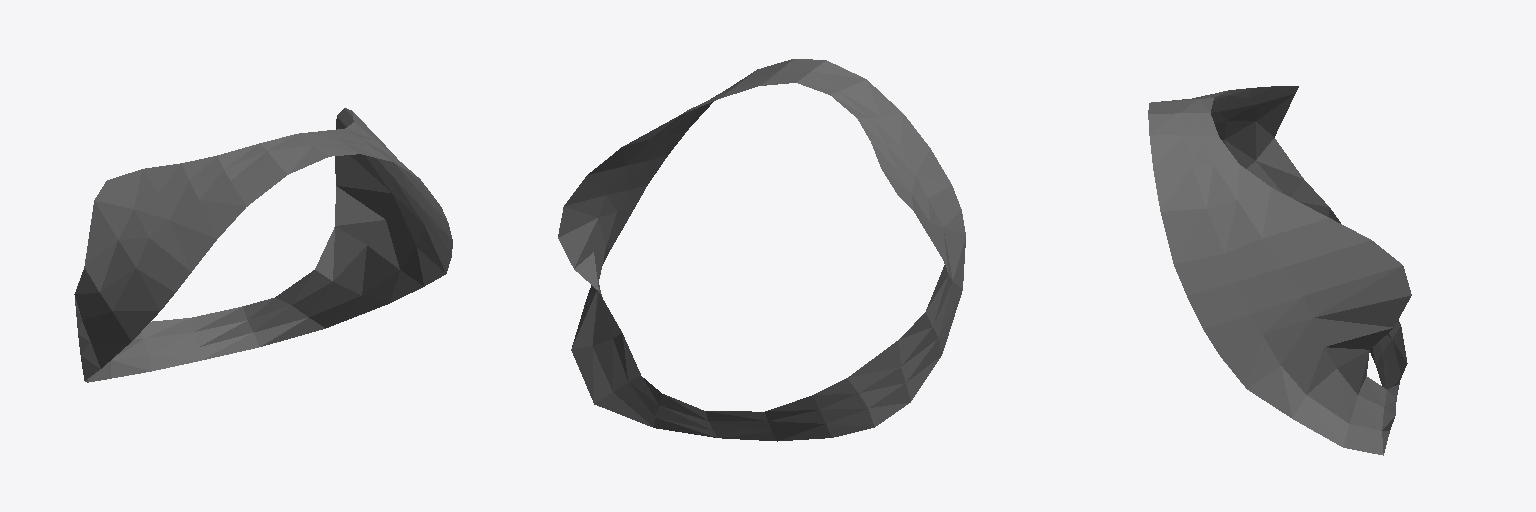
The model's file is LHipPitch_flexibleskin.obj.
3 renders of one model, left to right at view 1: azimuth 30°, elevation 25°; view 2: azimuth 150°, elevation 25°; view 3: azimuth 270°, elevation 25°, orthographic.
Size of the model in its own units: 0.1803 by 0.1443 by 0.1181.